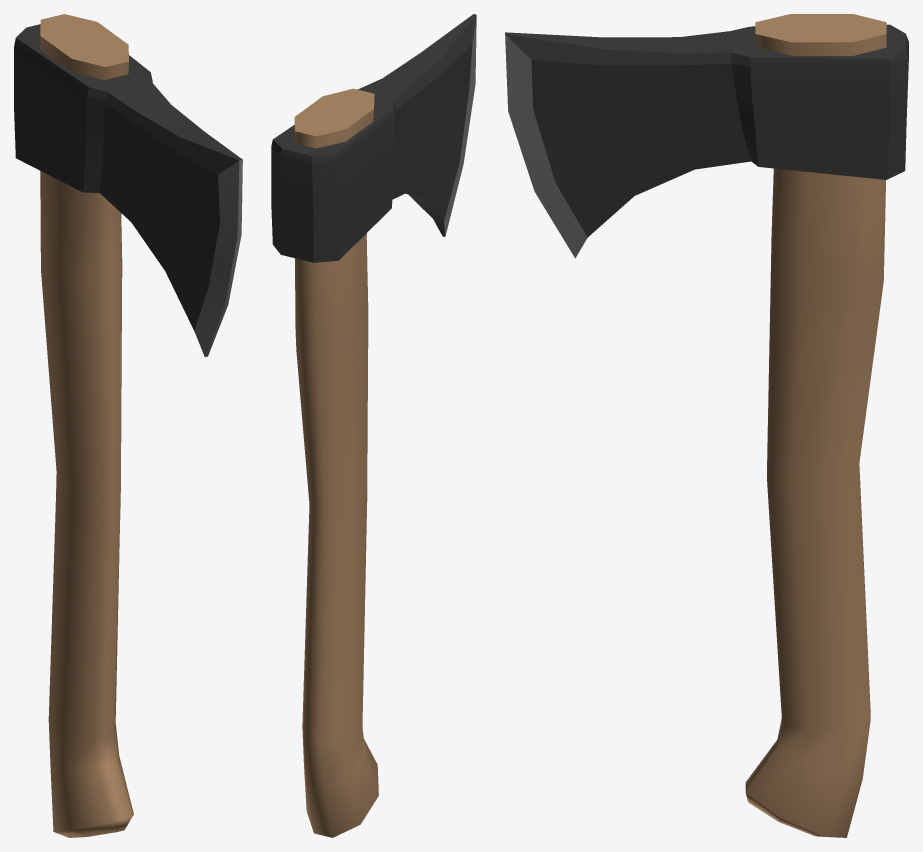
Rendered from axe.fbx.
3 views of the same model, side by side, from view 1: azimuth 30°, elevation 25°; view 2: azimuth 150°, elevation 25°; view 3: azimuth 270°, elevation 25° (orthographic). The views are drawn at different scales.
Parts seen in each view (by area): view 1: pCylinder1; view 2: pCylinder1; view 3: pCylinder1.
Part boxes in pixels (bbox=[...]): pCylinder1: bbox=[14, 14, 242, 837]; pCylinder1: bbox=[271, 14, 476, 837]; pCylinder1: bbox=[505, 14, 908, 837].
Bounding box in the file's own units: 0.0418 × 0.4348 × 0.1971.
